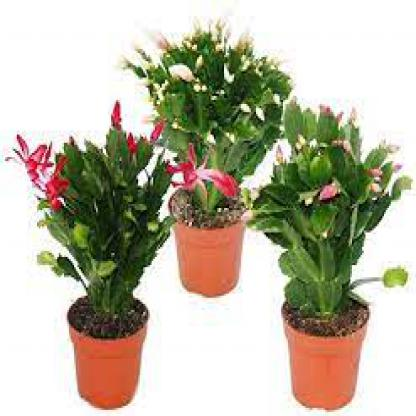Aglonema: (51, 18, 355, 388)
